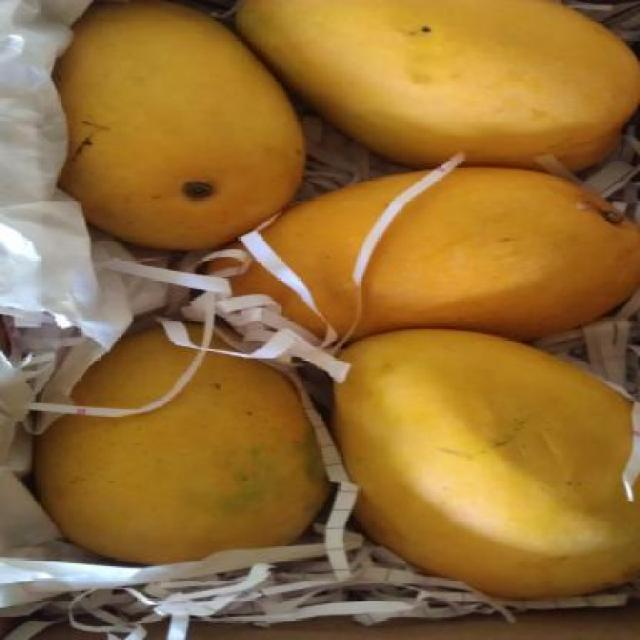Mango: (332, 332, 640, 600), (204, 166, 638, 345), (36, 324, 330, 566), (234, 0, 640, 174), (52, 0, 308, 249)
